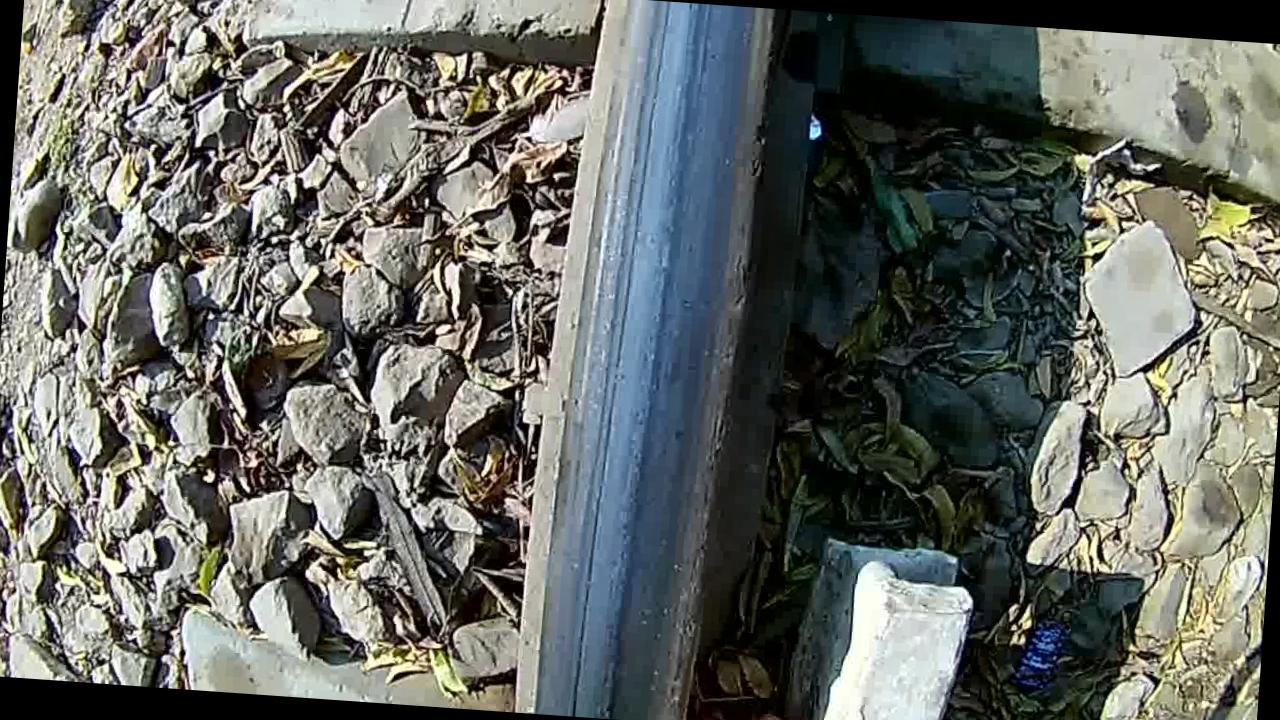clip_missing: (526, 0, 783, 720)
